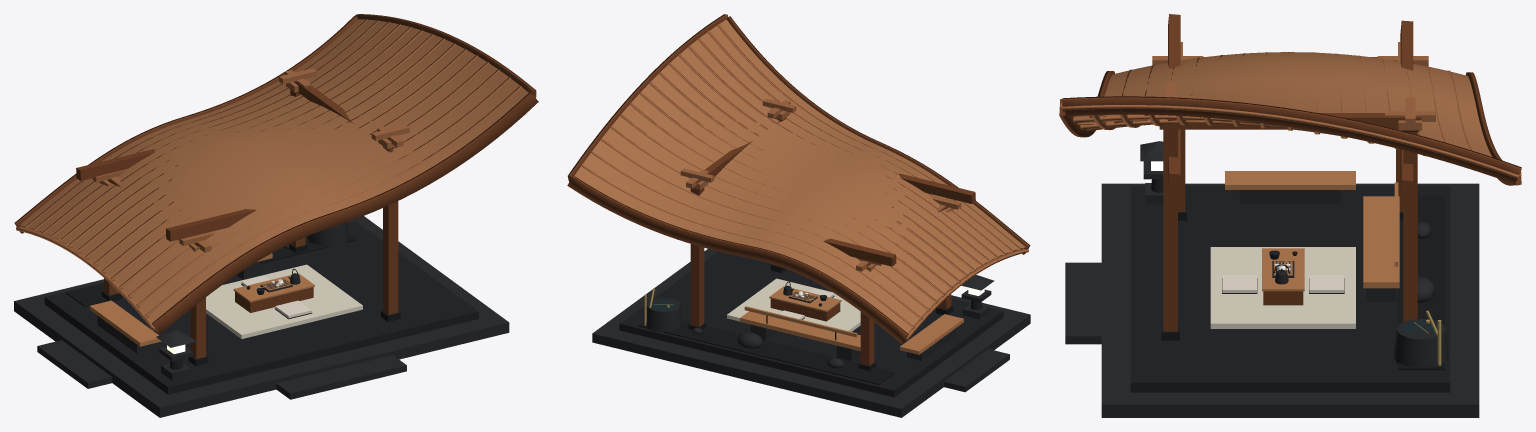
The model's file is ribbon-tea-pavilion.glb.
3 views of the same model, side by side, from view 1: azimuth 30°, elevation 25°; view 2: azimuth 150°, elevation 25°; view 3: azimuth 270°, elevation 25° (orthographic). The views are drawn at different scales.
Visible parts, largest first — view 1: Mesh_CanopyDeck, Mesh_BasaltPlinthUpper, Mesh_BasaltPlinthLower, Mesh_FasciaRight, Mesh_IvoryTeaDais, Mesh_StepFront, Mesh_FasciaLeft, Mesh_Col_HighFront_Shaft, Mesh_StepEntry, Mesh_GardenBenchPlank, Mesh_CurlingProwBeam, Mesh_GirderFront (+24 smaller); view 2: Mesh_CanopyDeck, Mesh_BasaltPlinthUpper, Mesh_BasaltPlinthLower, Mesh_FasciaLeft, Mesh_GravelMargin, Mesh_IvoryTeaDais, Mesh_FasciaRight, Mesh_MainBenchPlank, Mesh_CurlingProwBeam, Mesh_StepEntry, Mesh_Col_HighRear_Shaft, Mesh_GardenBenchPlank (+24 smaller); view 3: Mesh_BasaltPlinthUpper, Mesh_BasaltPlinthLower, Mesh_CanopyDeck, Mesh_IvoryTeaDais, Mesh_CurlingProwBeam, Mesh_GravelMargin, Mesh_MainBenchPlank, Mesh_StepFront, Mesh_Col_HighFront_Shaft, Mesh_GardenBenchPlank, Mesh_Col_HighRear_Shaft, Mesh_CrossRib_12 (+17 smaller).
Boxes of the visible parts, <box> form: Mesh_CanopyDeck: <box>19,19,528,321</box>; Mesh_BasaltPlinthUpper: <box>44,221,478,394</box>; Mesh_BasaltPlinthLower: <box>14,216,509,417</box>; Mesh_FasciaRight: <box>152,92,538,334</box>; Mesh_IvoryTeaDais: <box>206,264,362,338</box>; Mesh_StepFront: <box>276,355,406,399</box>; Mesh_FasciaLeft: <box>14,16,357,233</box>; Mesh_Col_HighFront_Shaft: <box>383,146,398,314</box>; Mesh_StepEntry: <box>37,340,112,388</box>; Mesh_GardenBenchPlank: <box>89,300,161,346</box>; Mesh_CurlingProwBeam: <box>355,14,536,98</box>; Mesh_GirderFront: <box>165,209,256,241</box>; Mesh_CanopyDeck: <box>574,19,1025,332</box>; Mesh_BasaltPlinthUpper: <box>619,251,1003,397</box>; Mesh_BasaltPlinthLower: <box>592,249,1030,417</box>; Mesh_FasciaLeft: <box>567,175,908,343</box>; Mesh_GravelMargin: <box>638,320,895,384</box>; Mesh_IvoryTeaDais: <box>727,278,860,331</box>; Mesh_FasciaRight: <box>726,16,1030,254</box>; Mesh_MainBenchPlank: <box>740,311,860,350</box>; Mesh_CurlingProwBeam: <box>567,14,727,181</box>; Mesh_StepEntry: <box>944,349,1009,392</box>; Mesh_Col_HighRear_Shaft: <box>690,187,704,326</box>; Mesh_GardenBenchPlank: <box>900,314,963,354</box>; Mesh_BasaltPlinthUpper: <box>1130,186,1450,392</box>; Mesh_BasaltPlinthLower: <box>1101,183,1479,417</box>; Mesh_CanopyDeck: <box>1074,52,1491,156</box>; Mesh_IvoryTeaDais: <box>1210,247,1355,328</box>; Mesh_CurlingProwBeam: <box>1062,96,1521,184</box>; Mesh_GravelMargin: <box>1397,196,1444,370</box>; Mesh_MainBenchPlank: <box>1363,196,1399,288</box>; Mesh_StepFront: <box>1065,262,1101,344</box>; Mesh_Col_HighFront_Shaft: <box>1163,124,1177,331</box>; Mesh_GardenBenchPlank: <box>1225,171,1355,189</box>; Mesh_Col_HighRear_Shaft: <box>1403,131,1417,322</box>; Mesh_CrossRib_12: <box>1062,105,1518,178</box>.
Size of the model in its own units: 7.98 by 4.96 by 6.36.
